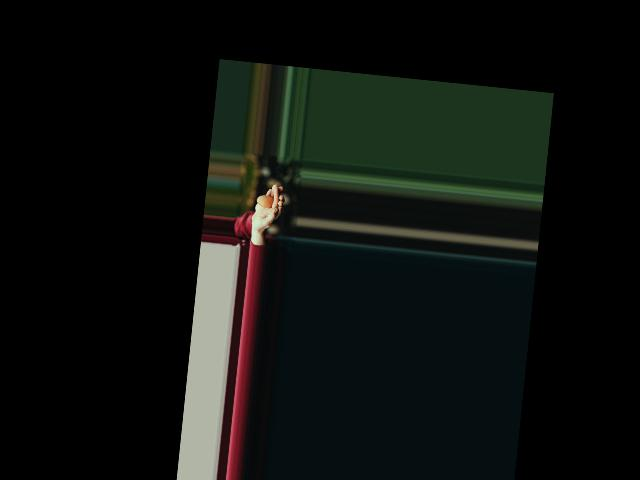egg: (256, 194, 273, 208)
